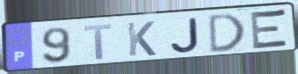9: (41, 26, 73, 65)
D: (207, 12, 246, 56)
E: (250, 7, 291, 51)
J: (168, 16, 202, 55)
K: (125, 20, 158, 58)
T: (82, 23, 115, 62)
